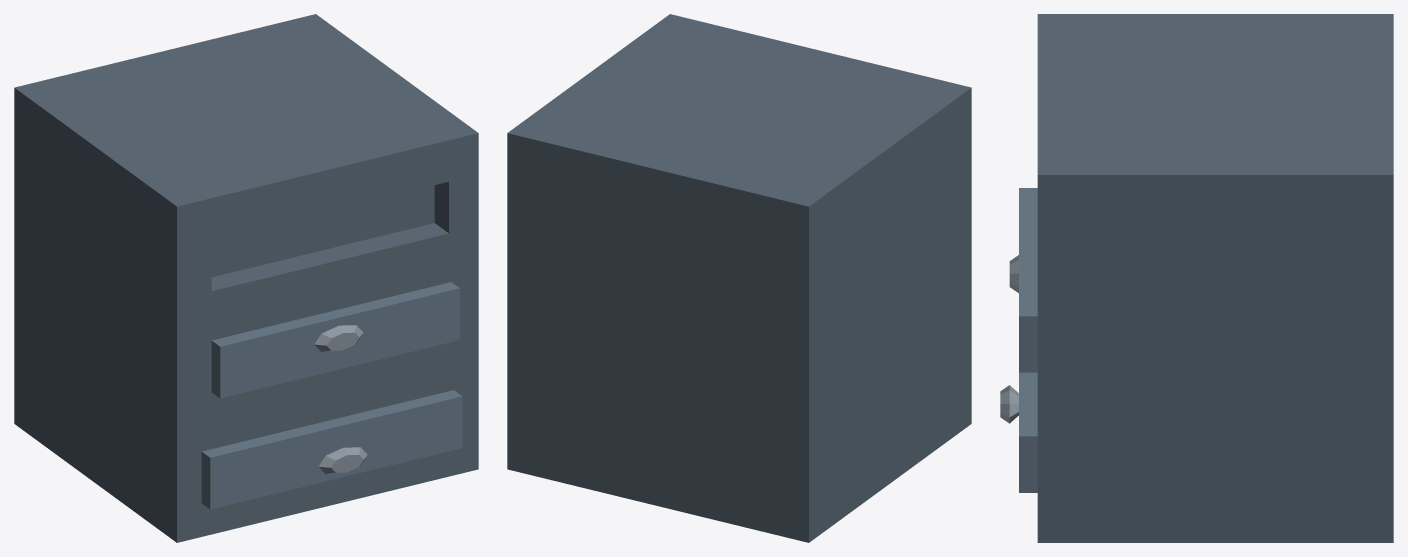
3 renders of one model, left to right at view 1: azimuth 30°, elevation 25°; view 2: azimuth 150°, elevation 25°; view 3: azimuth 270°, elevation 25°, orthographic. The views are drawn at different scales.
Visible parts, largest first — view 1: Mesh_Mesh_head_geo.001_lambert2SG.001; view 2: Mesh_Mesh_head_geo.001_lambert2SG.001; view 3: Mesh_Mesh_head_geo.001_lambert2SG.001.
Boxes of the visible parts, box(x1,y1,x2,y2) form: Mesh_Mesh_head_geo.001_lambert2SG.001: box(14, 14, 478, 542); Mesh_Mesh_head_geo.001_lambert2SG.001: box(507, 14, 971, 542); Mesh_Mesh_head_geo.001_lambert2SG.001: box(1000, 14, 1393, 542).
Size of the model in its own units: 122 by 130 by 126.
